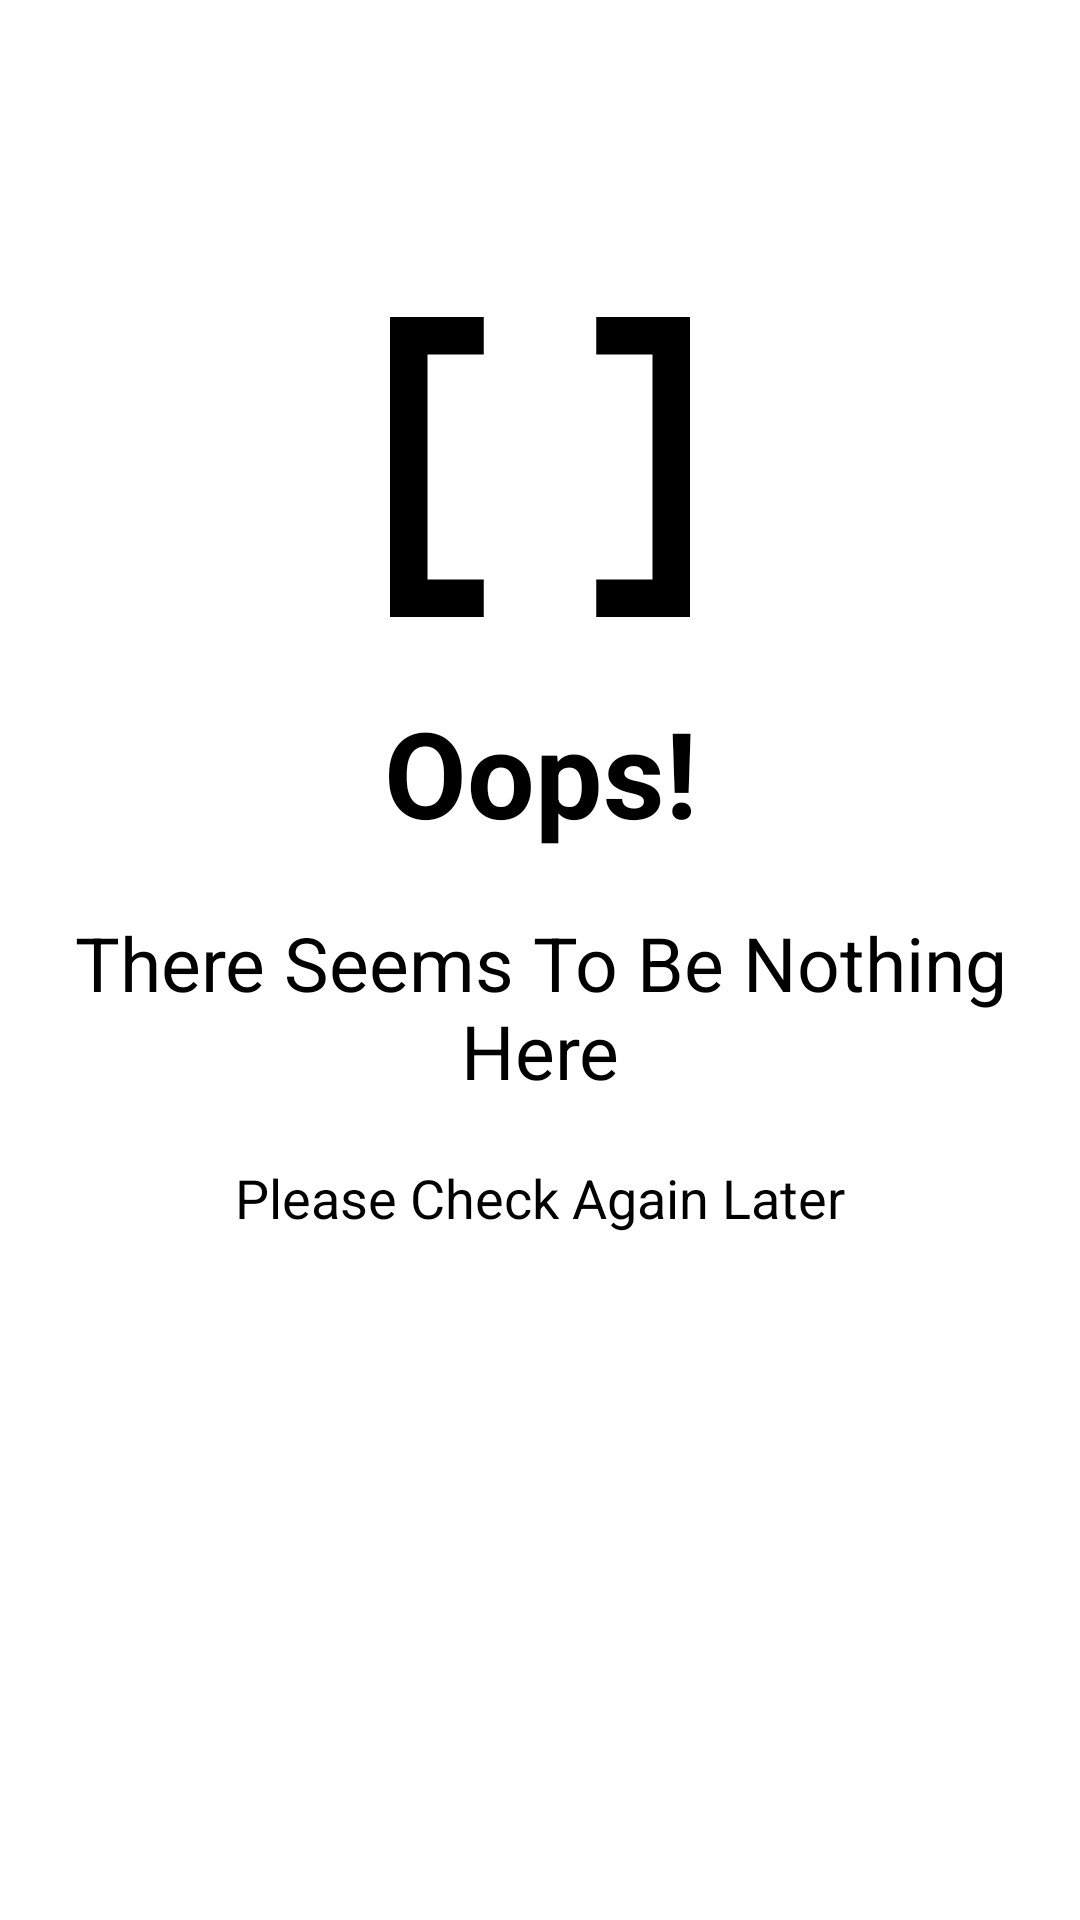

Named icons in this screenshot (1080px×1920px) and their centers, point (x, y):
data array: point (540, 467)
